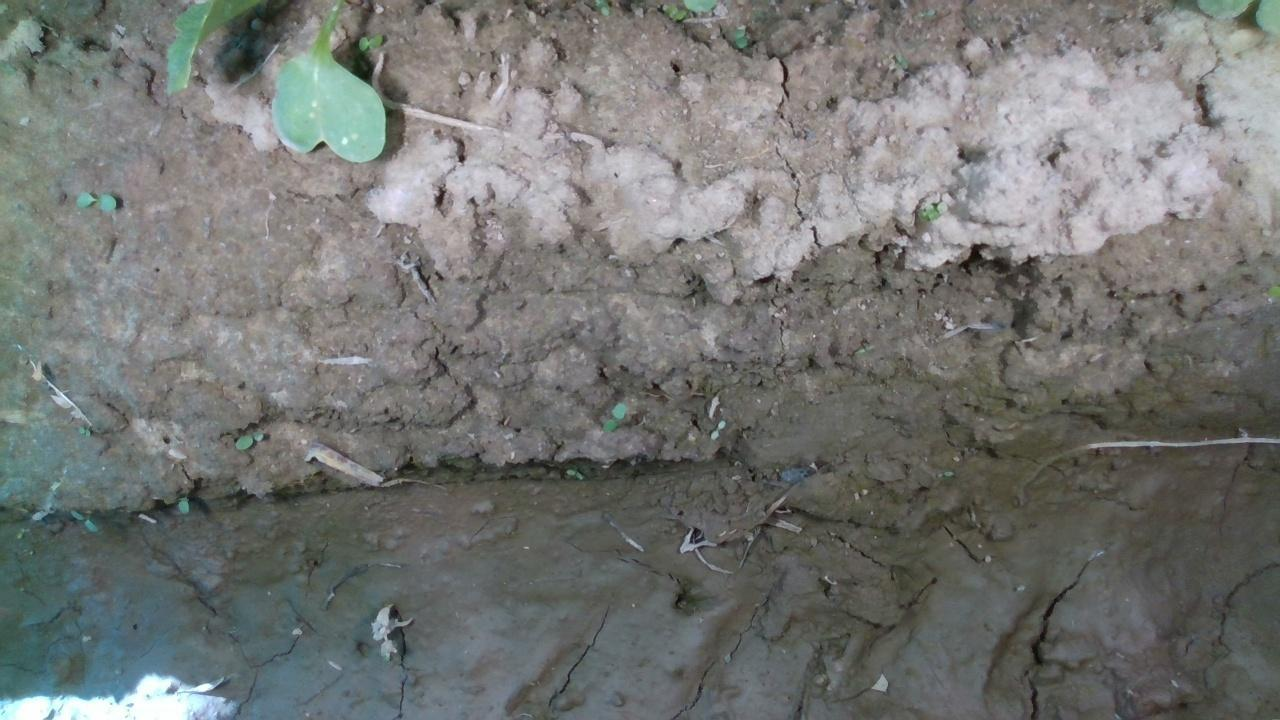weed: (224, 428, 274, 451)
